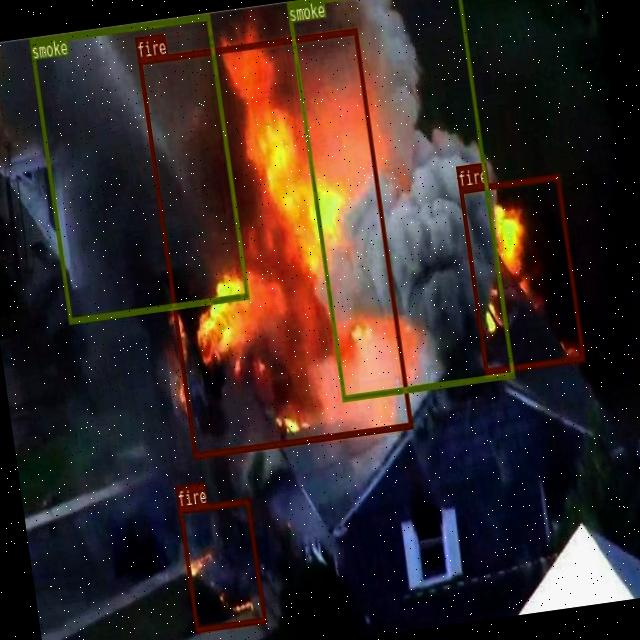fire: (137, 25, 412, 458), (458, 172, 584, 374), (178, 496, 266, 632)
smoke: (287, 0, 514, 399), (29, 13, 248, 322)
